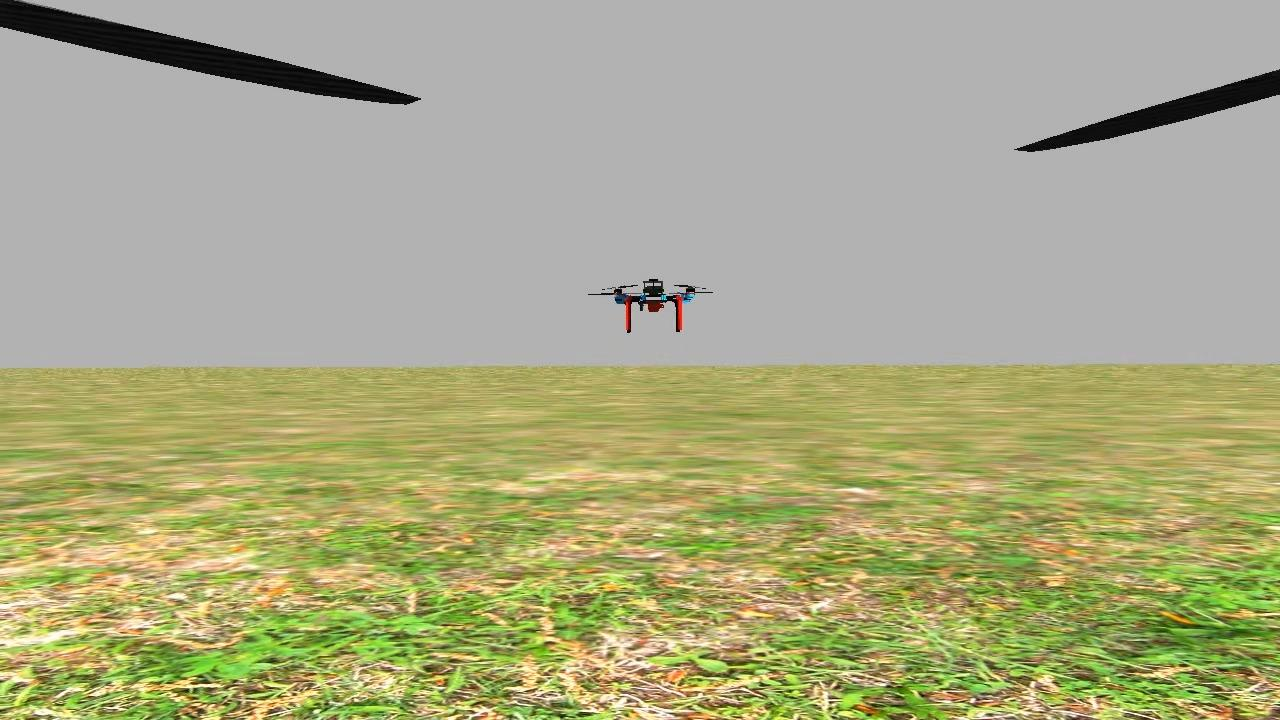UAV: (600, 272, 710, 338)
